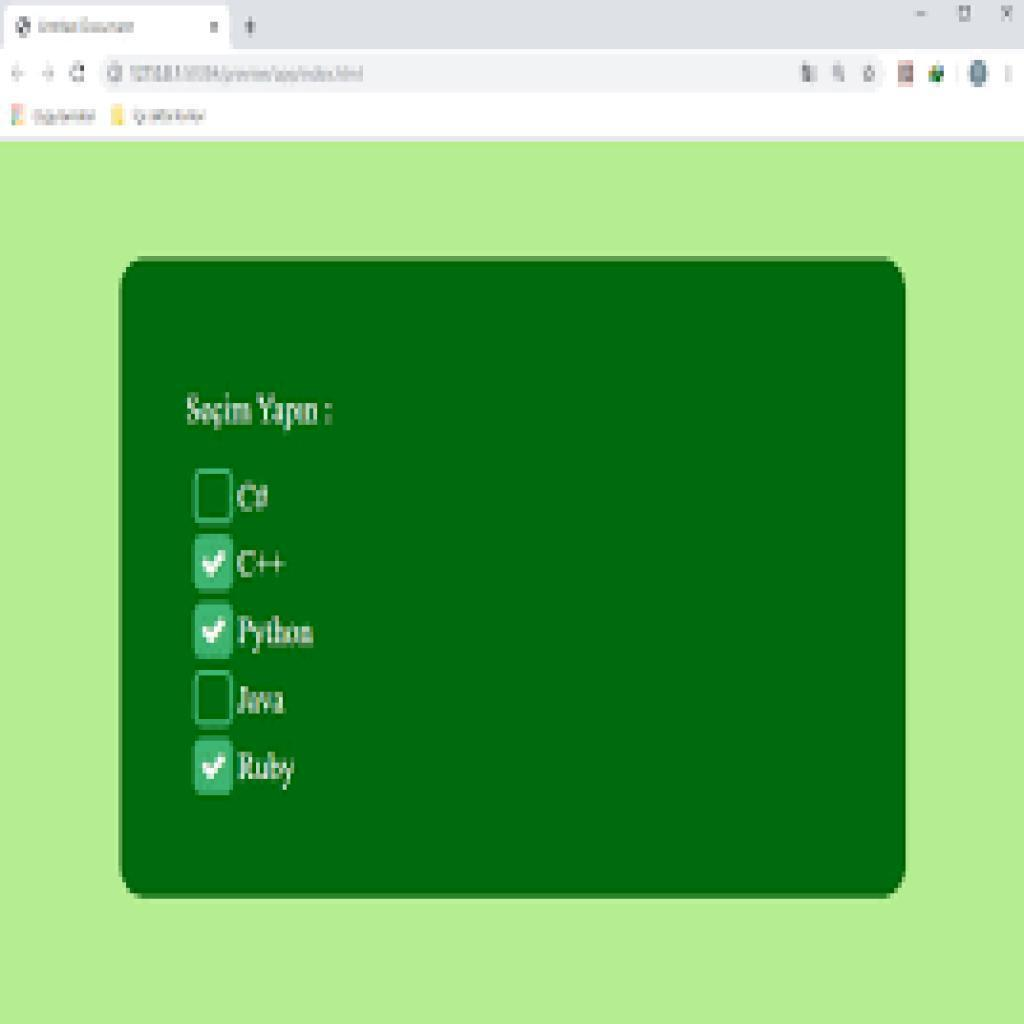checkbox: (194, 740, 236, 798), (195, 534, 235, 593), (195, 604, 236, 661), (194, 472, 236, 523), (197, 672, 233, 728)
label: (184, 394, 337, 435), (235, 612, 318, 659), (235, 750, 303, 795), (238, 544, 292, 586), (238, 680, 284, 727), (238, 480, 275, 520)
